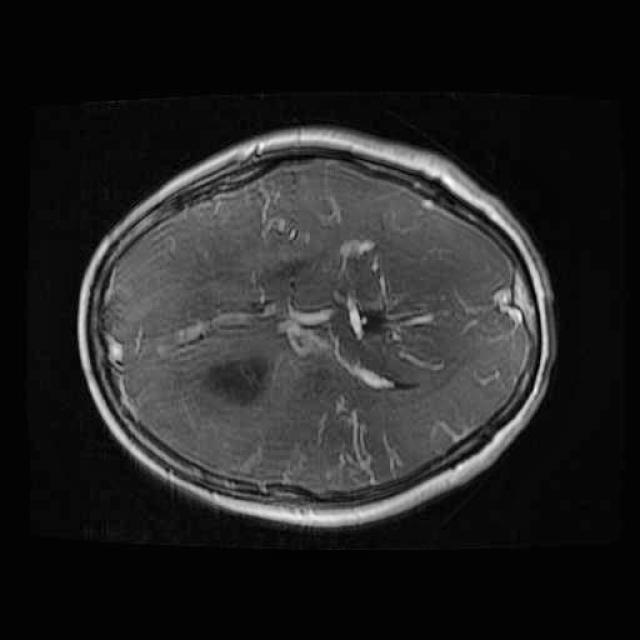Non-Tumor: (190, 348, 282, 412)
